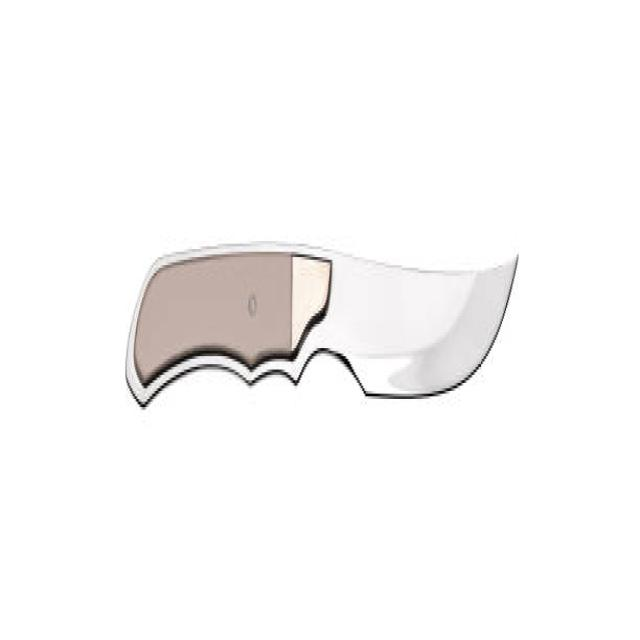knife: (126, 238, 525, 419)
